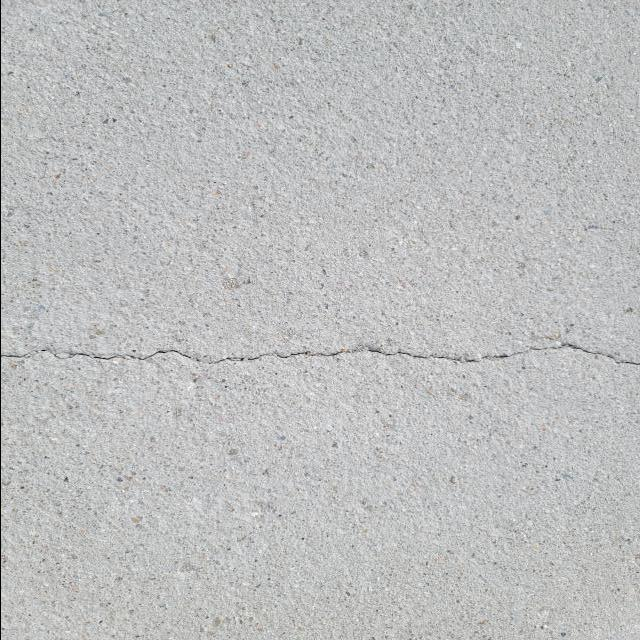SurfaceCrack: (0, 289, 639, 411)
